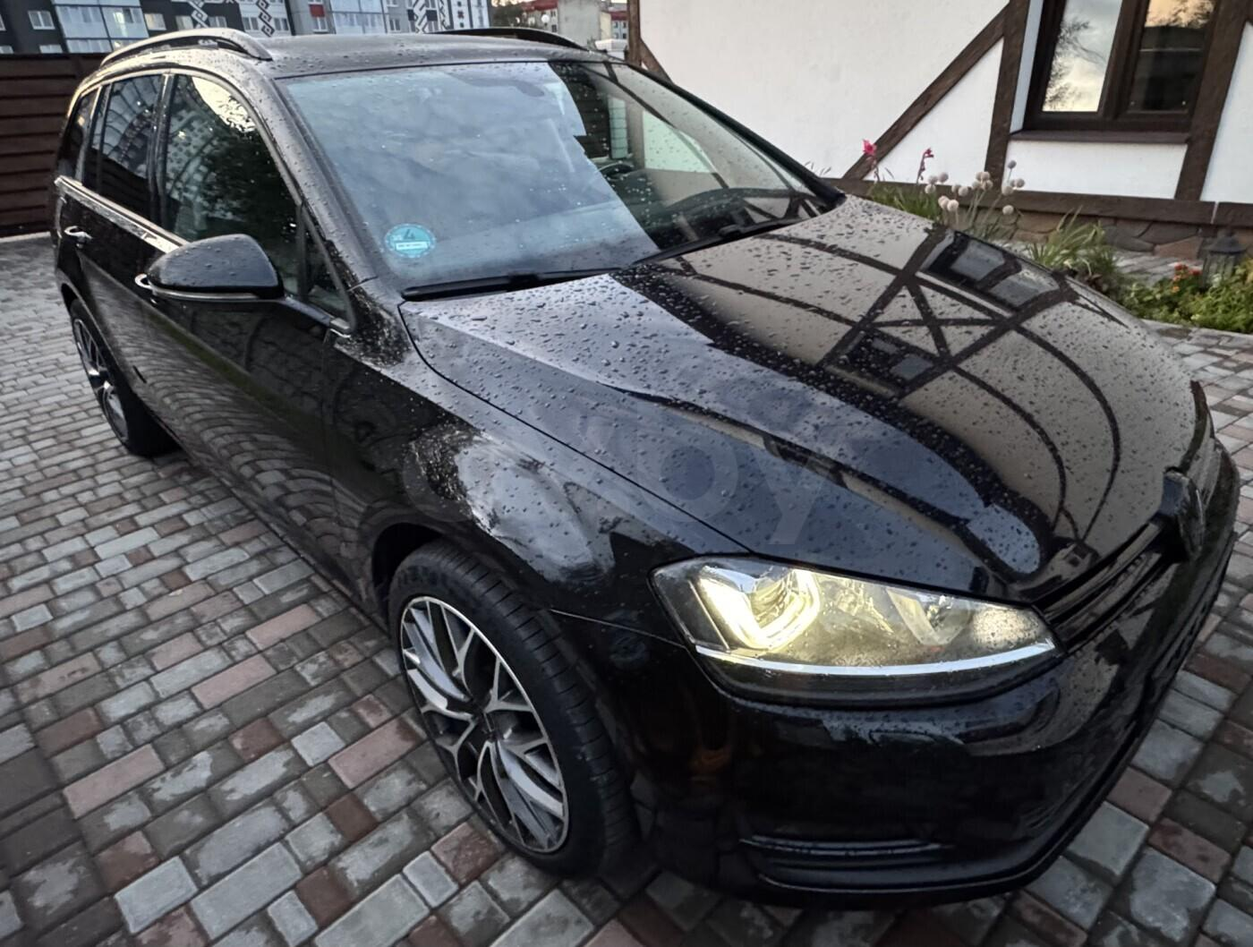Golf_2012-2017: (47, 31, 1253, 907)
